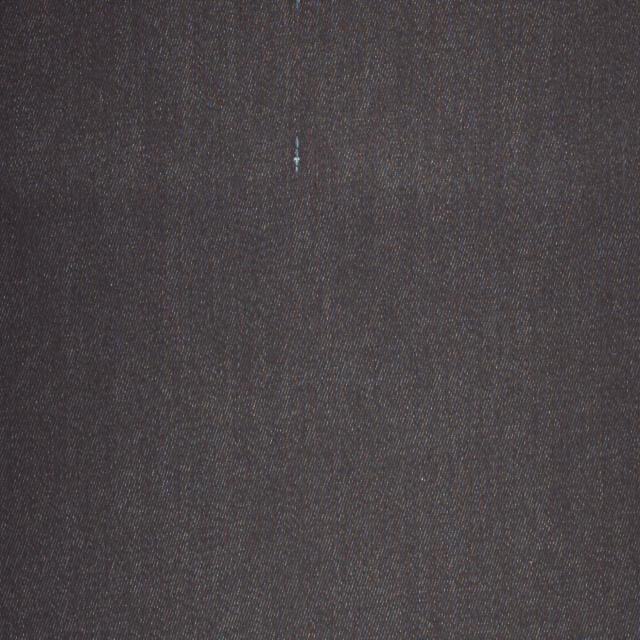Knot: (292, 130, 302, 176)
